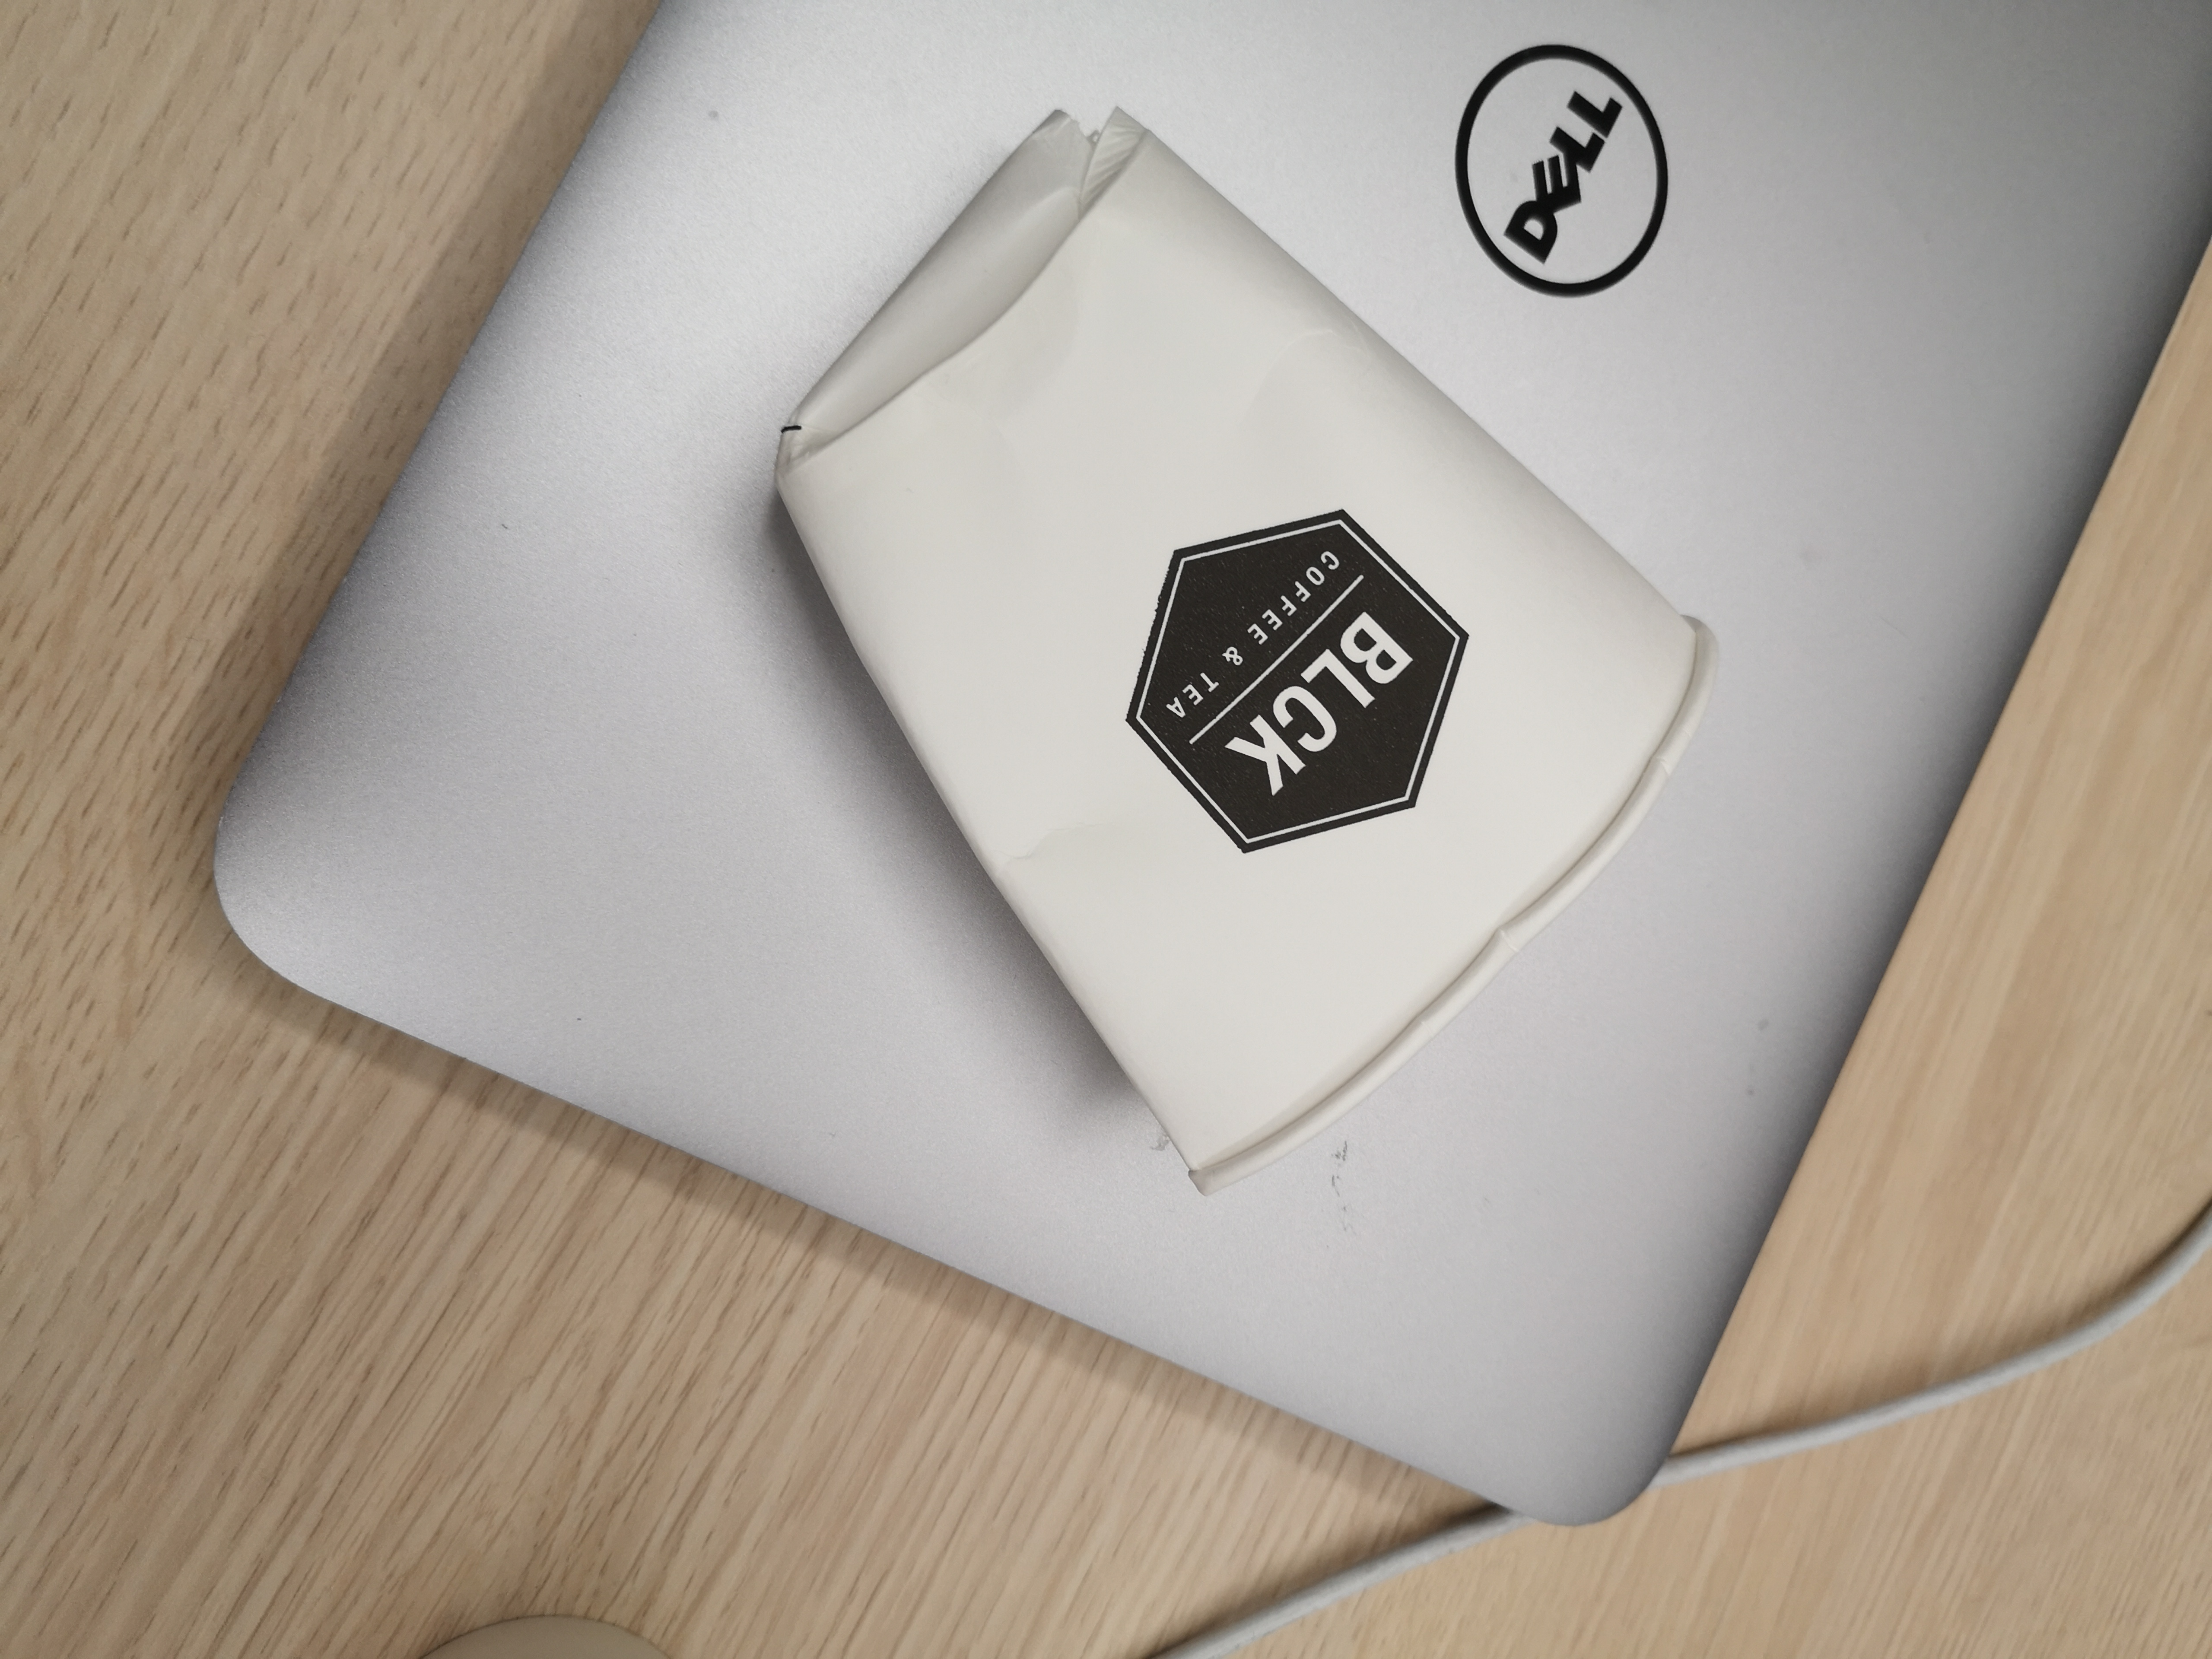cup: (752, 94, 1749, 1204)
